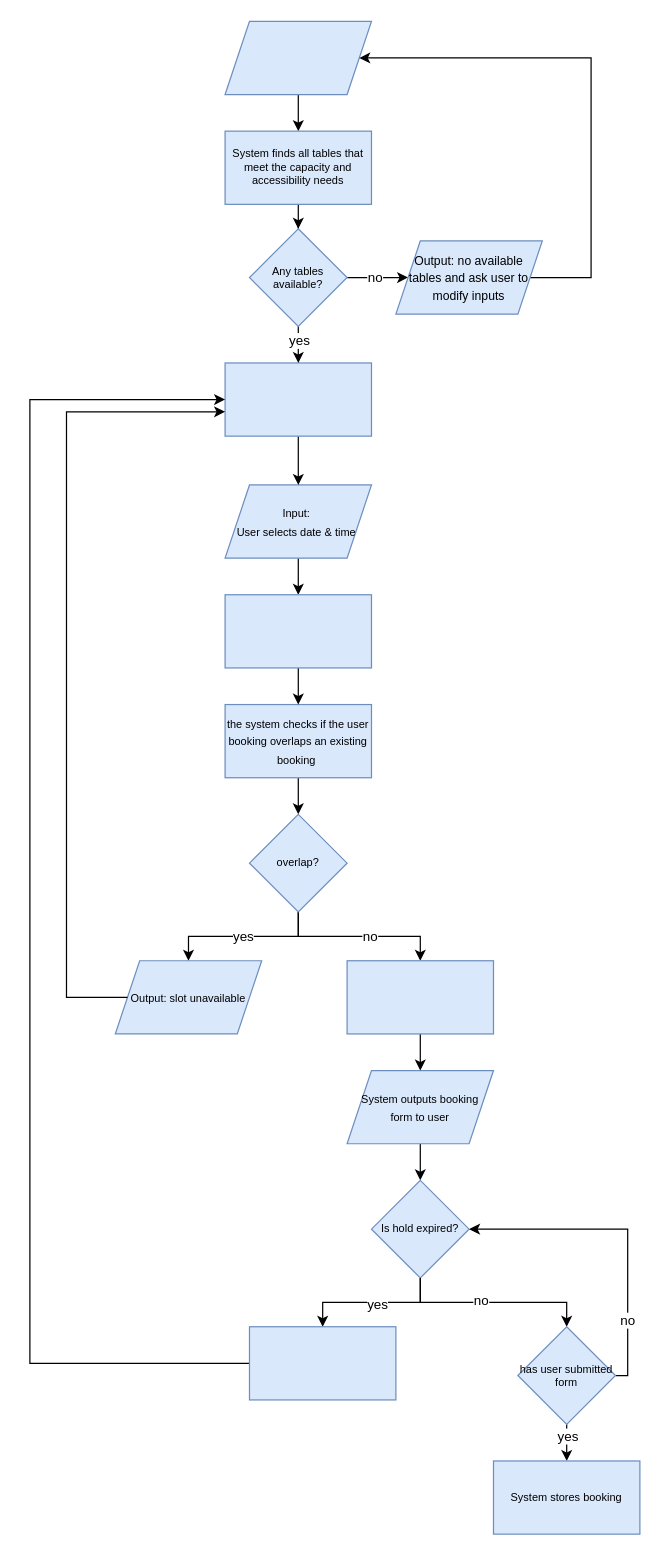
Some shapes in this 661 by 1556 pixel diagram are drawn without their labels. The shapes that lost their labels are listed below. From the top down, each one's centre as x and y in pixels, then its label:
At point 297,57: "Input: User selects party size & accessibility needs".
At point 297,399: "the system presents to the user the available date & time".
At point 297,631: "System selects the smallest suitable table".
At point 419,997: "System places temporary hold for short duration".
At point 322,1363: "System releases booking slot".
